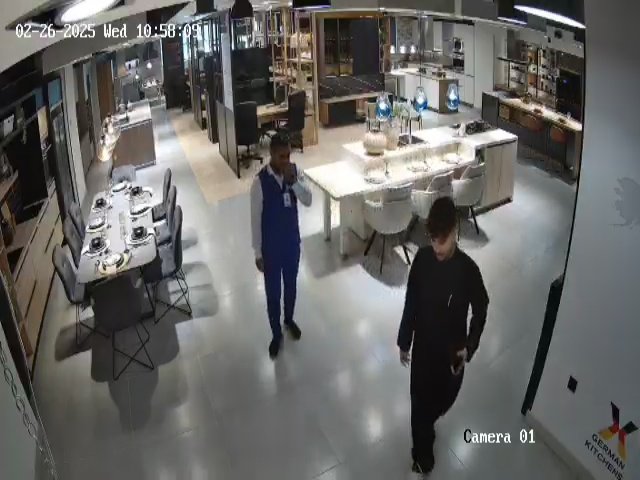employee: (250, 131, 312, 360)
male: (396, 197, 490, 478)
